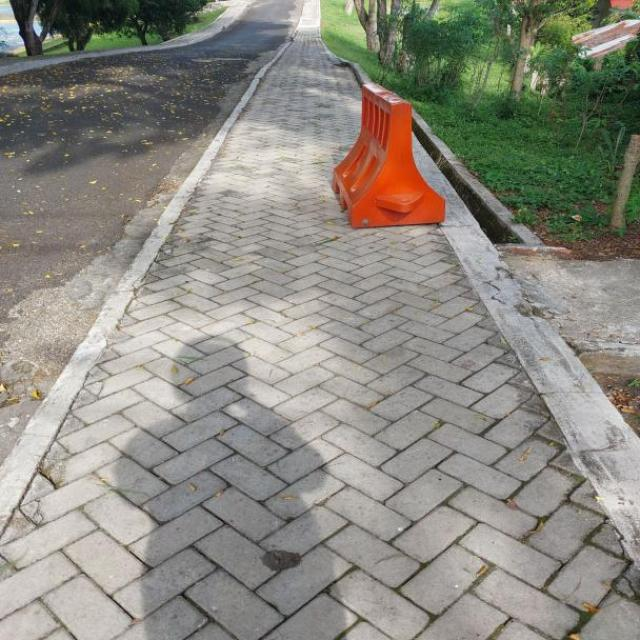barrier ahead at: (318, 71, 456, 235)
